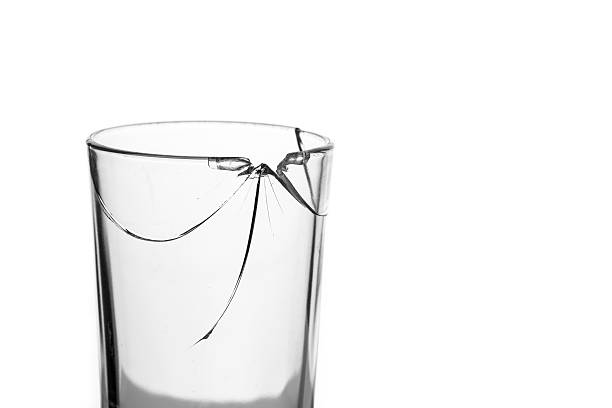glass of water: (78, 102, 375, 408)
